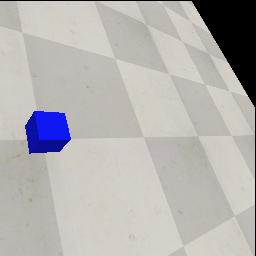box: (25, 111, 71, 154)
